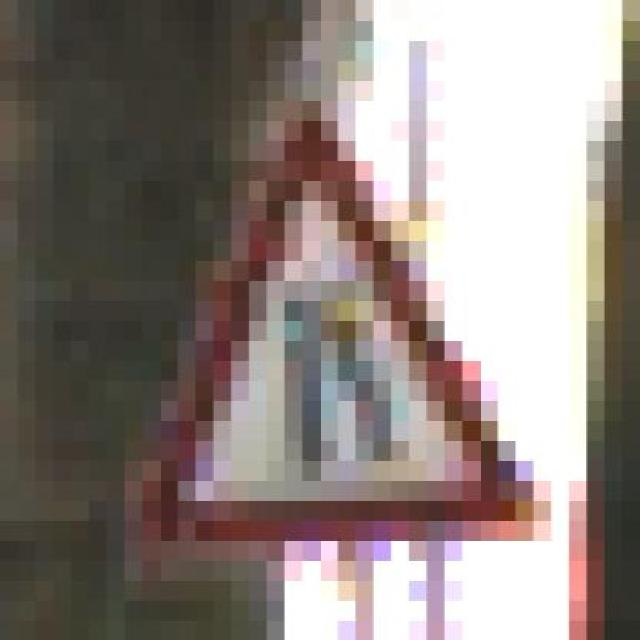-Road narrows on right: (125, 60, 569, 580)
